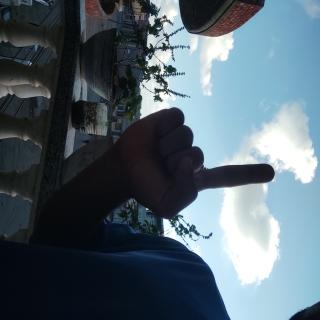BAA: (74, 50, 169, 281)
